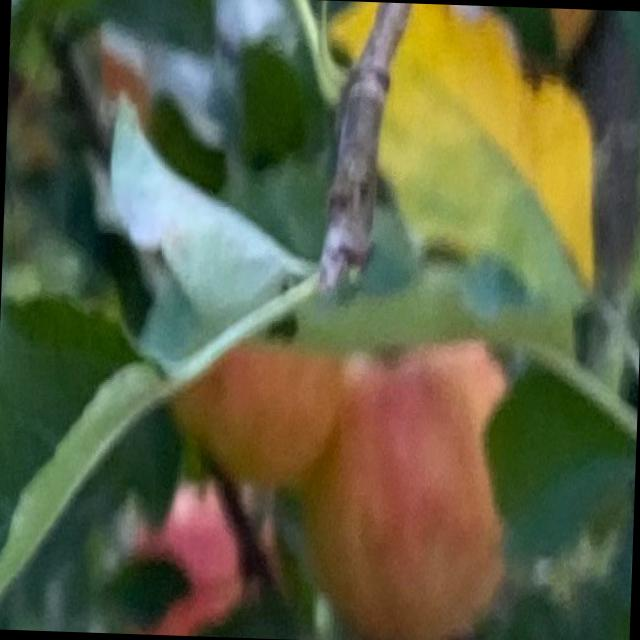Apples: (314, 337, 513, 639), (128, 472, 282, 636), (170, 339, 336, 471)
